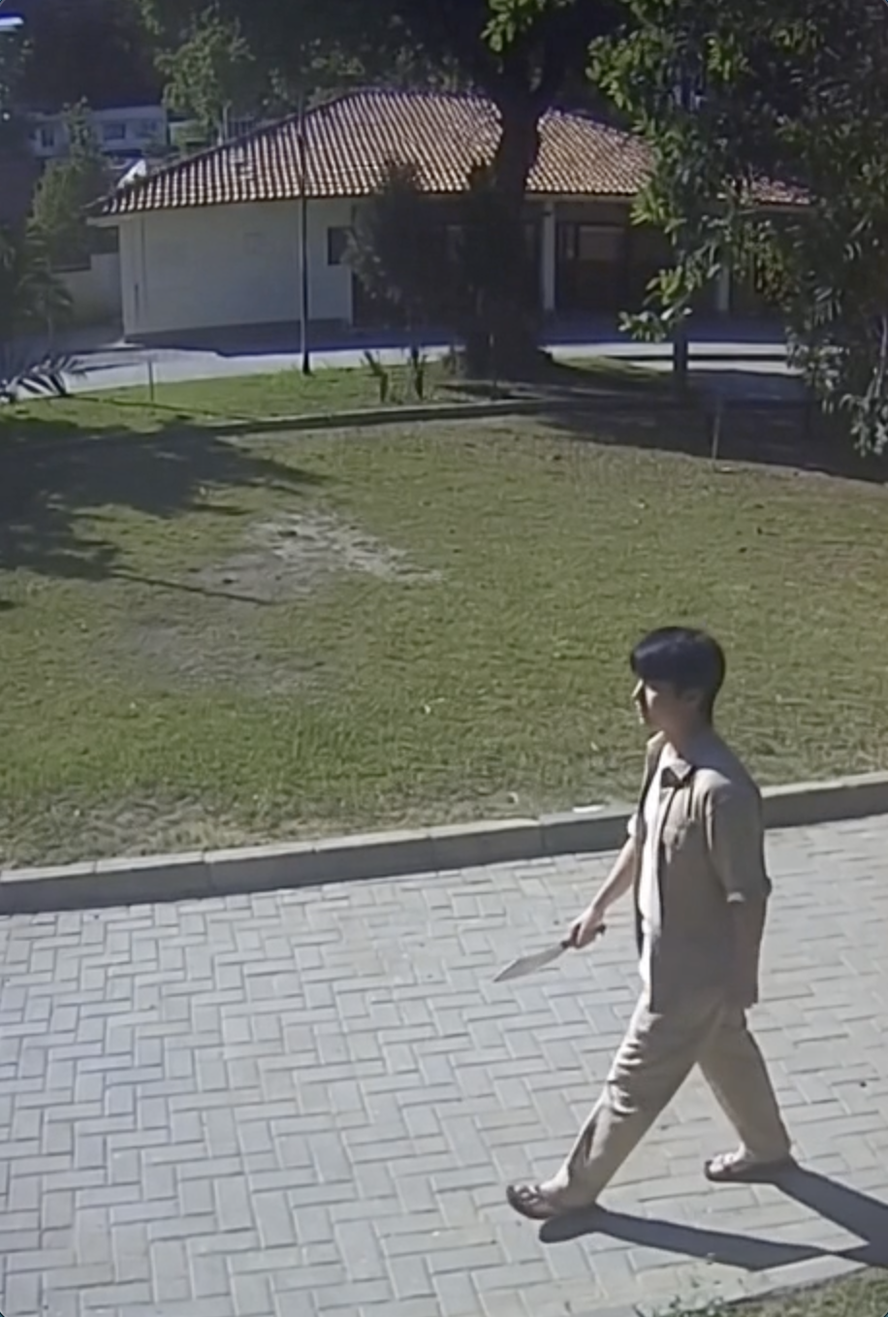Heavy Gun: (504, 626, 797, 1214)
Knife: (494, 886, 613, 991)
